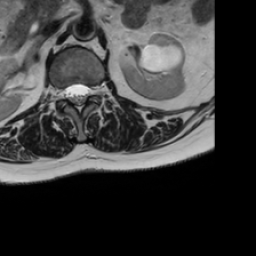CCS_normal: (73, 76, 81, 118)
LFS_normal: (89, 77, 96, 103)
LLS_normal: (81, 77, 88, 108)
RFS_normal: (57, 79, 65, 107)
RLS_normal: (65, 77, 73, 109)
